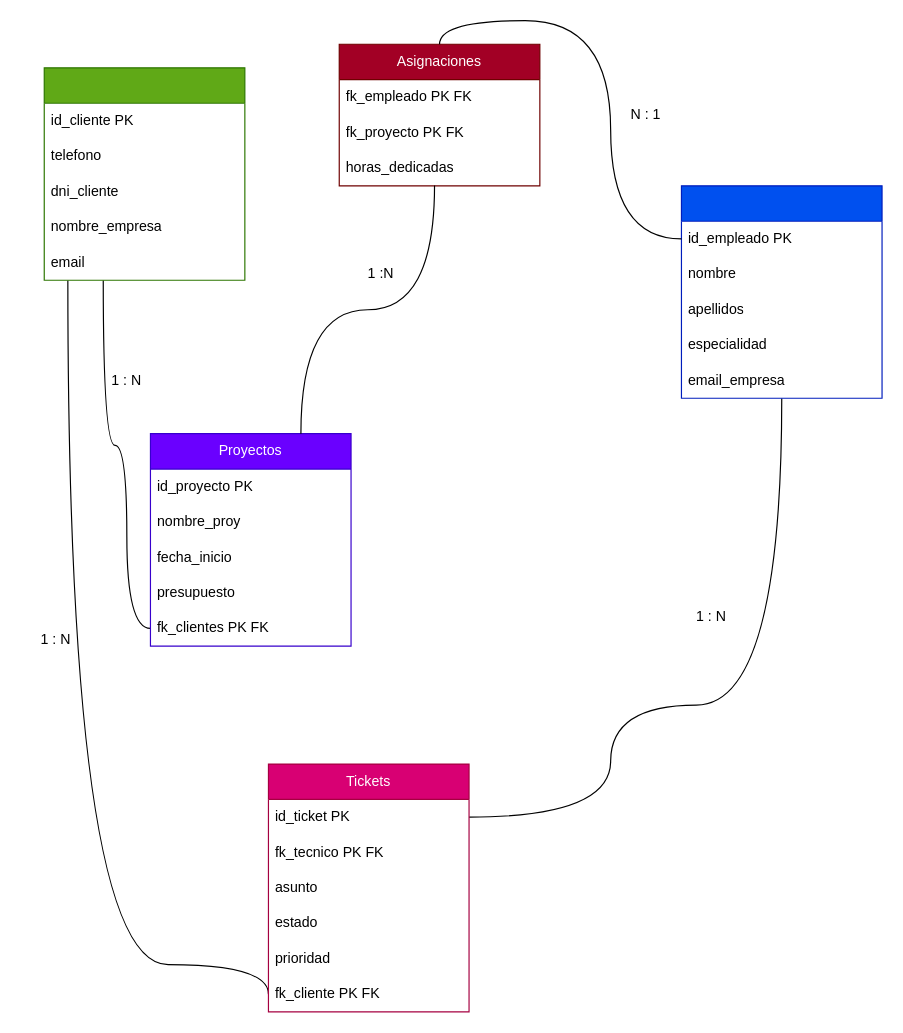
Some shapes in this 903 by 1033 pixel diagram are drawn without their labels. Each missing label, with the box of its shape:
Clientes: (43, 67, 245, 280)
Empleados: (680, 185, 882, 398)
